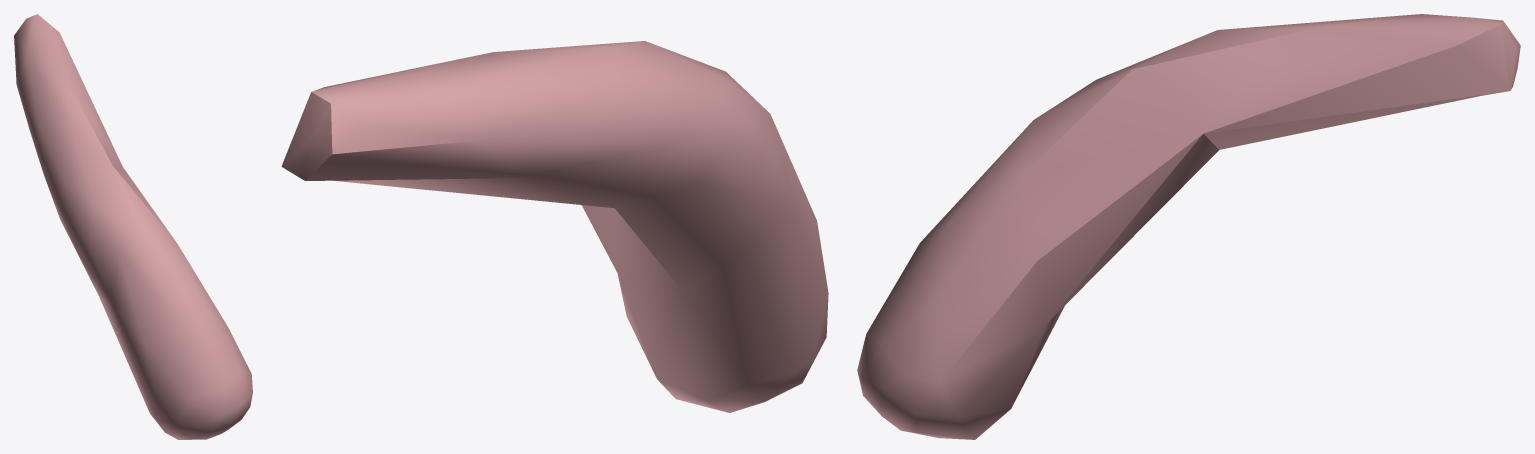
Rendered from fma68224_fj6507.glb.
The picture shows the model from 3 angles, left to right: view 1: azimuth 30°, elevation 25°; view 2: azimuth 150°, elevation 25°; view 3: azimuth 270°, elevation 25°; orthographic projection. The views are drawn at different scales.
Visible parts, largest first — view 1: FMA68224_FJ6507; view 2: FMA68224_FJ6507; view 3: FMA68224_FJ6507.
Boxes of the visible parts, x1,y1,x2,y2 form: FMA68224_FJ6507: [14, 14, 252, 439]; FMA68224_FJ6507: [281, 41, 828, 412]; FMA68224_FJ6507: [857, 14, 1520, 439].
Bounding box in the file's own units: 0.00317 × 0.00734 × 0.0103.
